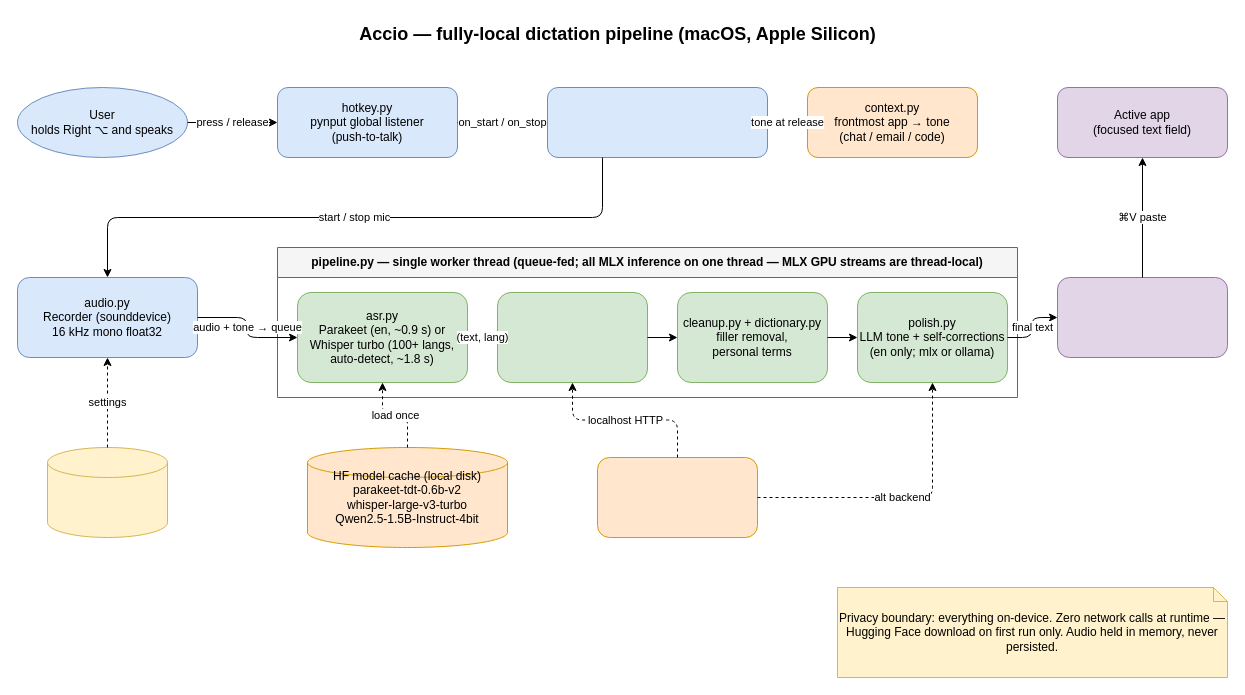
Some shapes in this 1245 by 695 pixel diagram are drawn without their labels. The box of each missing label's shape, as (x1, y1, x2, y2) in pixels:
app.py rumps menu-bar orchestrator 🎤 idle · 🔴 rec · ⏳ processing: (546, 86, 768, 158)
Ollama daemon localhost:11434 llama3.2: (596, 456, 758, 538)
paste.py save clipboard → set text → CGEvent ⌘V → restore: (1056, 276, 1228, 358)
romanize.py hi → Hinglish (llama3.2, optional): (496, 292, 648, 382)
~/.accio/ config.toml dictionary.json: (46, 446, 168, 538)
